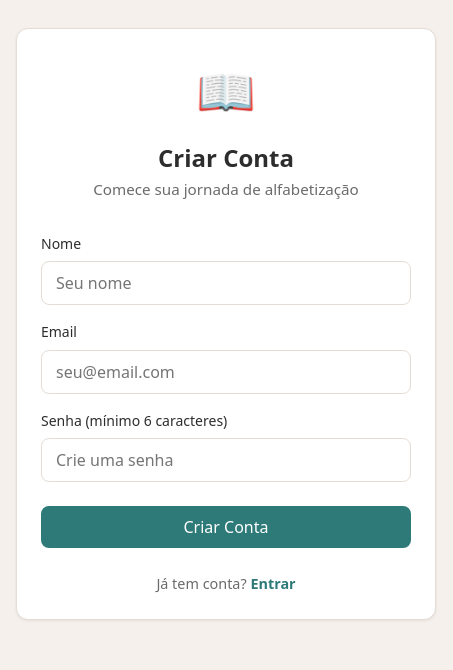
Test: Register page › shows error for short password
This screenshot has width=453, height=670.
Step 1. Type "Test" into the field with placeholder "Seu nome" → {"x": 226, "y": 283}, box x1=41 y1=261 x2=411 y2=305
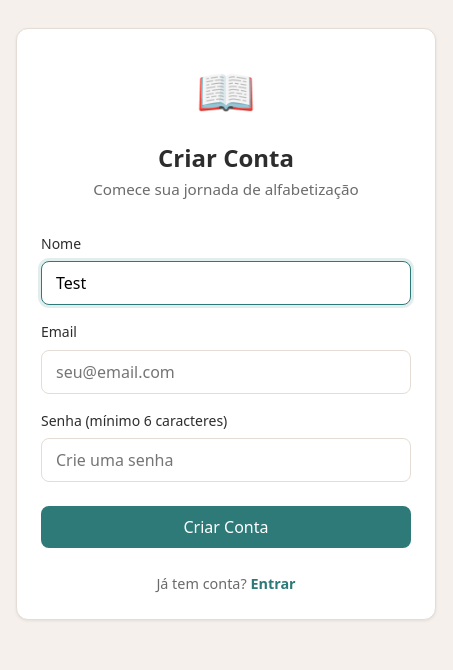
Step 2. Type "test@test.com" into the field with placeholder "seu@email.com" → {"x": 226, "y": 372}, box x1=41 y1=350 x2=411 y2=394
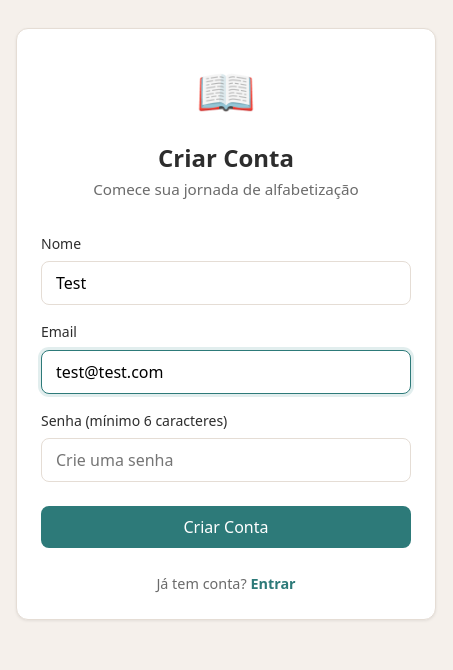
Step 3. Type "123" into the password field with placeholder "Crie uma senha" → {"x": 226, "y": 460}, box x1=41 y1=438 x2=411 y2=482
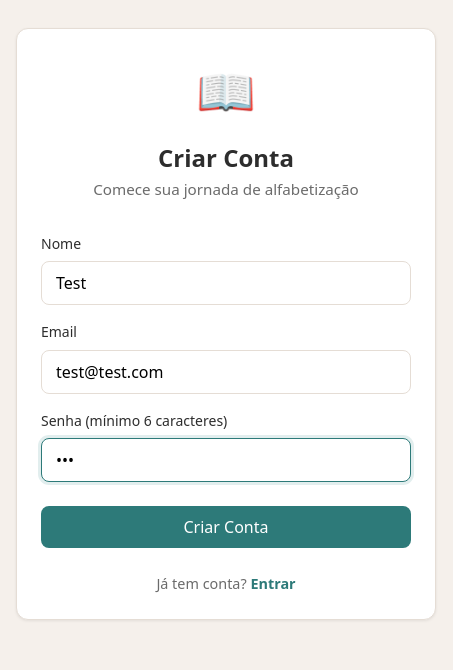
Step 4. Click the button "Criar Conta" → {"x": 226, "y": 527}, box x1=41 y1=506 x2=411 y2=548
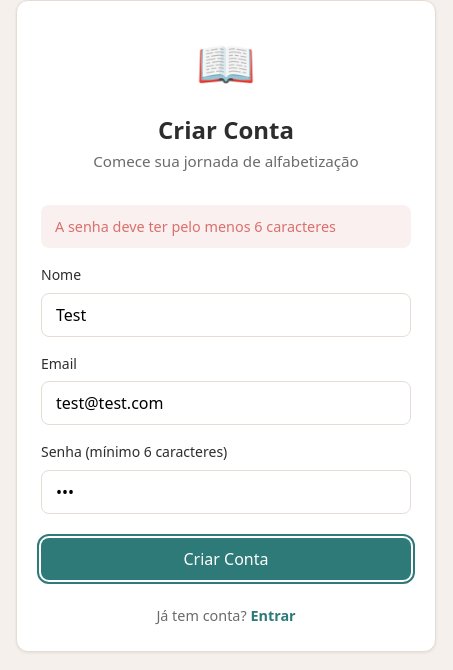
Expected: the text "A senha deve ter pelo menos 6 caracteres" is shown, x1=41 y1=205 x2=411 y2=248
